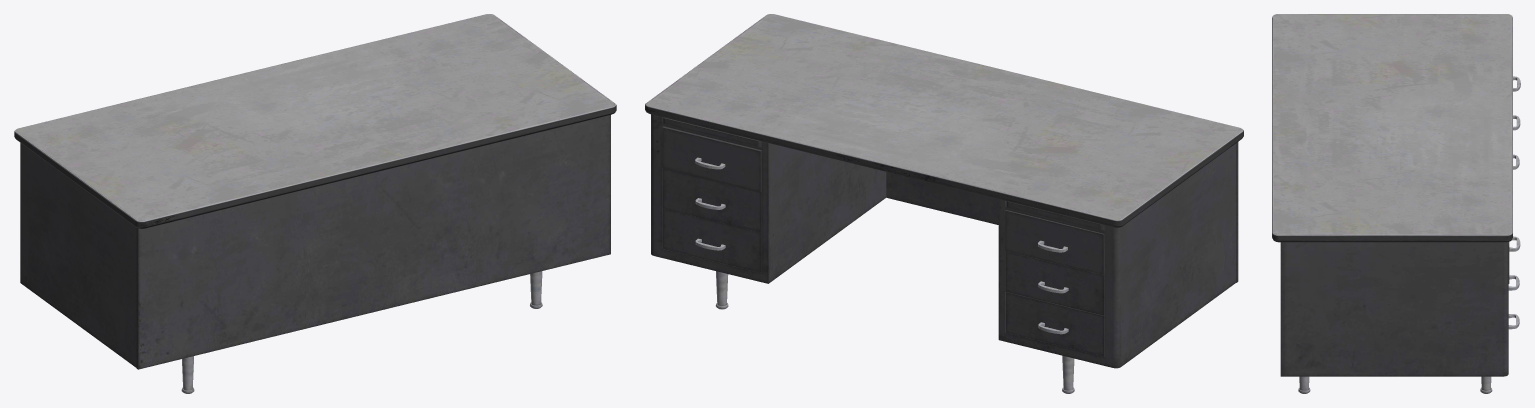
File: office_desk.glb
3 views of the same model, side by side, from view 1: azimuth 30°, elevation 25°; view 2: azimuth 150°, elevation 25°; view 3: azimuth 270°, elevation 25° (orthographic). The views are drawn at different scales.
Visible parts, largest first — view 1: metal_office_desk_drawer_06; view 2: metal_office_desk_drawer_06; view 3: metal_office_desk_drawer_06.
Part boxes in pixels (bbox=[...]): metal_office_desk_drawer_06: bbox=[14, 14, 616, 393]; metal_office_desk_drawer_06: bbox=[645, 14, 1243, 393]; metal_office_desk_drawer_06: bbox=[1272, 14, 1520, 393].
Size of what is drawn, in the model's own units: 2 by 0.7874 by 0.9471.
Materials: 1 (1 with a texture image).
